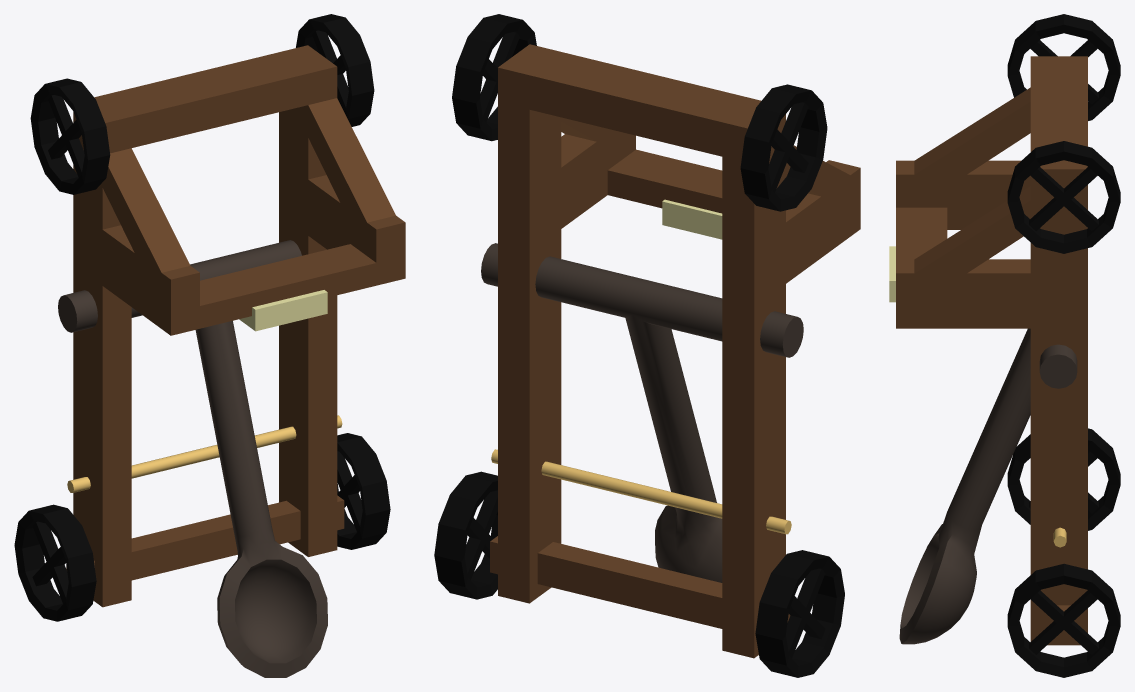
The model's file is catapult.glb.
3 renders of one model, left to right at view 1: azimuth 30°, elevation 25°; view 2: azimuth 150°, elevation 25°; view 3: azimuth 270°, elevation 25°, orthographic. The views are drawn at different scales.
Visible parts, largest first — view 1: Frame, Arm, Wheel.002, Wheel.001, Wheel.003, Wheel, Tension Holder; view 2: Frame, Arm, Wheel.002, Wheel.001, Wheel.003, Wheel, Tension Holder; view 3: Frame, Arm, Wheel.003, Wheel, Wheel.001, Wheel.002.
Part boxes in pixels (<box>): Frame: <box>66,45,405,607</box>; Arm: <box>58,240,327,677</box>; Wheel.002: <box>14,504,96,621</box>; Wheel.001: <box>30,78,110,194</box>; Wheel.003: <box>337,433,390,549</box>; Wheel: <box>296,14,374,126</box>; Tension Holder: <box>67,415,342,492</box>; Frame: <box>490,44,860,658</box>; Arm: <box>481,243,803,582</box>; Wheel.002: <box>755,550,844,677</box>; Wheel.001: <box>740,84,827,211</box>; Wheel.003: <box>434,471,497,599</box>; Wheel: <box>452,14,536,141</box>; Tension Holder: <box>491,449,791,534</box>; Frame: <box>889,56,1087,645</box>; Arm: <box>899,328,1077,644</box>; Wheel.003: <box>1007,563,1120,677</box>; Wheel: <box>1007,141,1120,253</box>; Wheel.001: <box>1007,14,1120,120</box>; Wheel.002: <box>1007,428,1120,530</box>.
Bounding box in the file's own units: 2.34 × 3.97 × 1.5.
